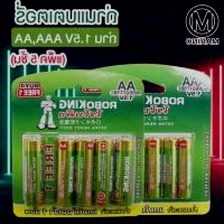battery: (91, 133, 118, 210), (109, 135, 135, 208), (22, 132, 45, 211), (72, 136, 96, 211), (55, 134, 76, 210), (157, 134, 180, 202), (141, 133, 162, 203), (175, 132, 196, 202)
